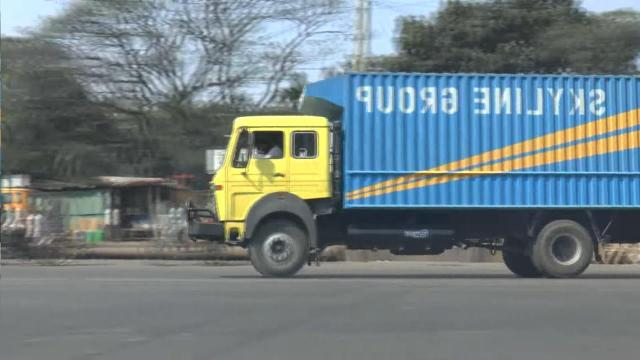truck: (195, 66, 640, 282)
